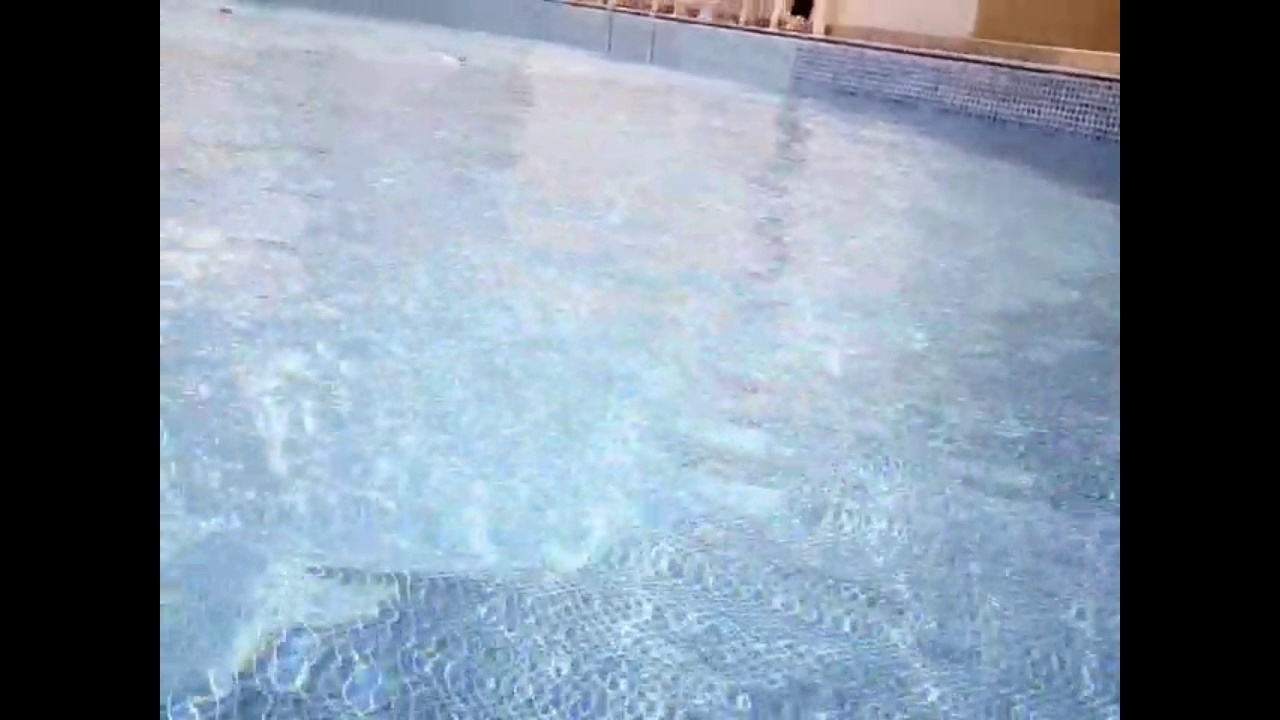debris: (439, 47, 470, 66), (217, 3, 233, 17)
